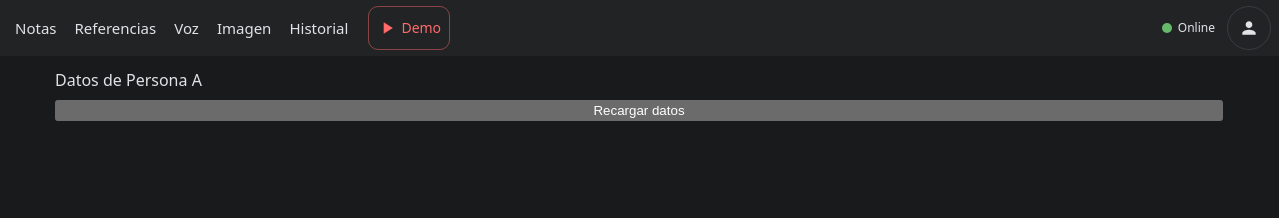
Cierre de sesión › un 401 comprobado en el cierre aplica la expiración en lugar de un error de cierre
Click the button named "Cuenta de ": [1249, 28] box [1227, 6, 1271, 50]
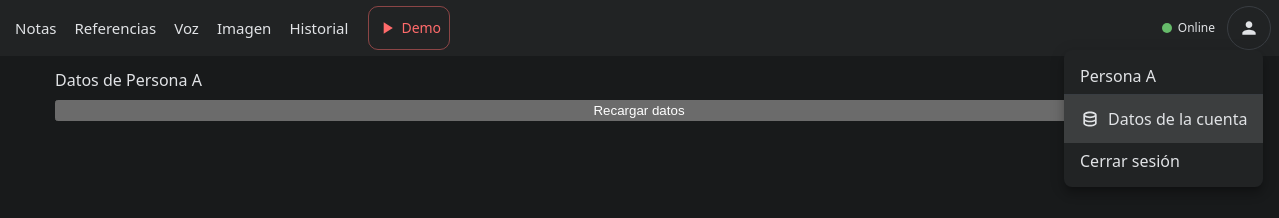
Click the menu item "Cerrar sesión": [1130, 161] box [1080, 150, 1180, 172]
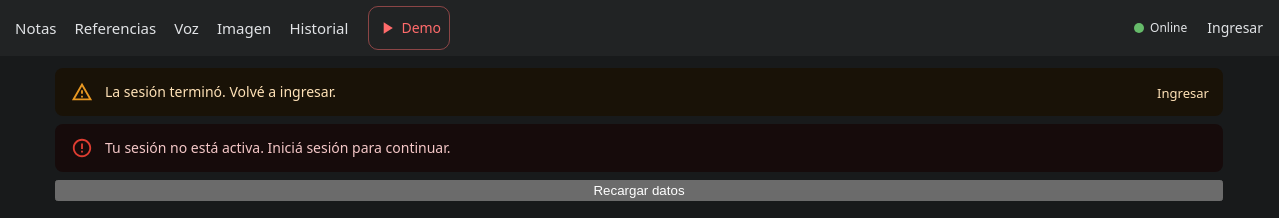
Expected: the text "La sesión terminó. Volvé a ingresar." is shown, [105, 82, 336, 101]
Expected: the text "Datos de Persona A" is gone
